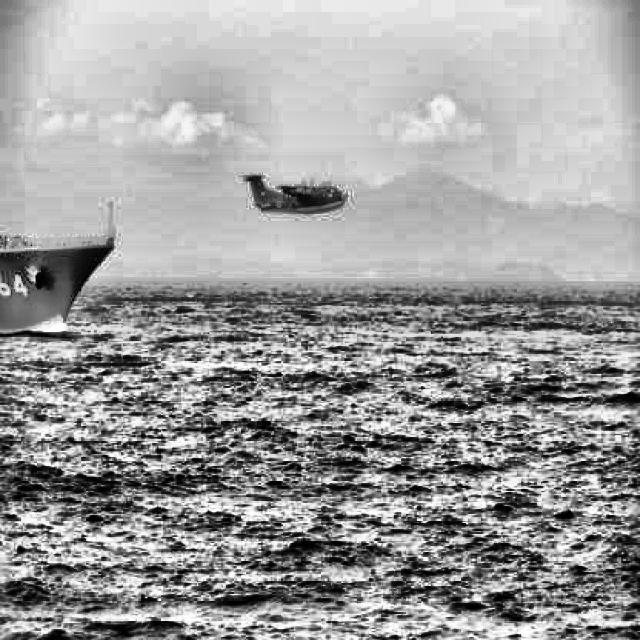US2: (242, 173, 348, 215)
